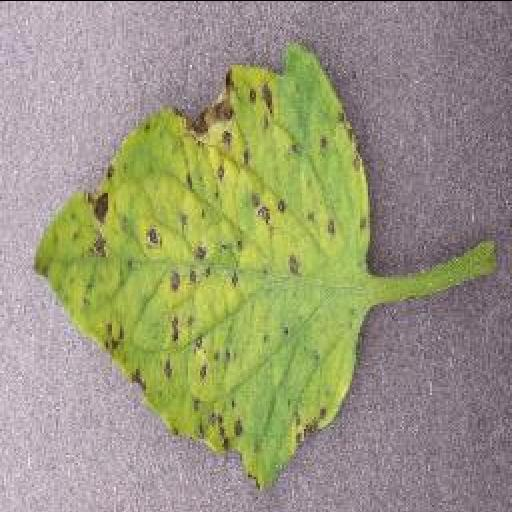disease_tomato: (32, 42, 372, 480)
